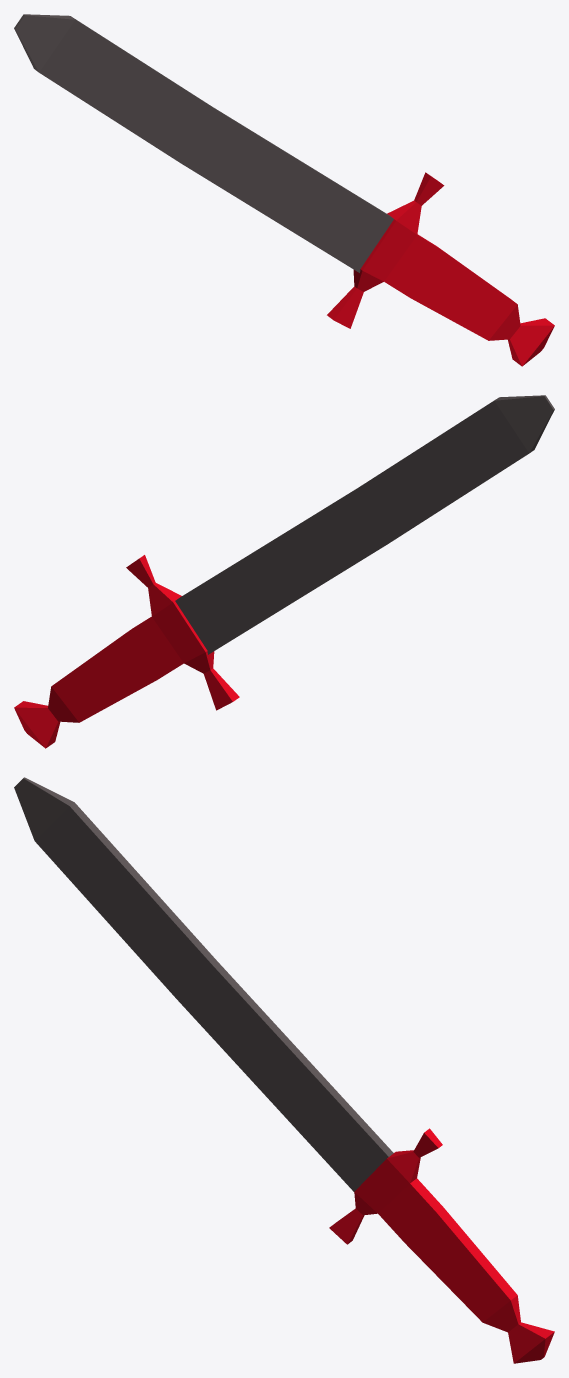
Rendered from short_sword.fbx.
The picture shows the model from 3 angles, top to bottom: view 1: azimuth 30°, elevation 25°; view 2: azimuth 150°, elevation 25°; view 3: azimuth 330°, elevation 25°; orthographic projection.
Parts seen in each view (by area): view 1: Short sword; view 2: Short sword; view 3: Short sword.
Boxes of the visible parts, x1,y1,x2,y2 form: Short sword: [14, 14, 554, 366]; Short sword: [14, 395, 554, 748]; Short sword: [14, 777, 554, 1363].
Bounding box in the file's own units: 202 × 169 × 7.57.
